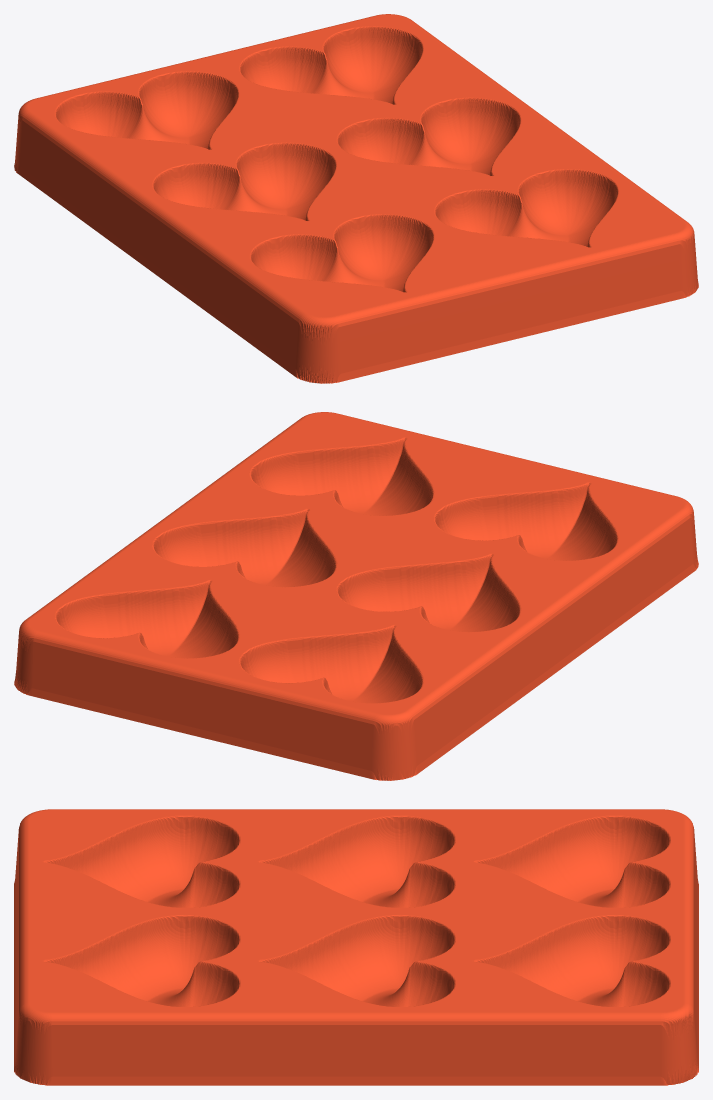
File: mold.glb
3 views of the same model, one above another, from view 1: azimuth 30°, elevation 25°; view 2: azimuth 150°, elevation 25°; view 3: azimuth 270°, elevation 25° (orthographic). The views are drawn at different scales.
Parts seen in each view (by area): view 1: geometry_0; view 2: geometry_0; view 3: geometry_0.
Part boxes in pixels (box(x1,y1,x2,y2)): geometry_0: box(14, 14, 698, 383); geometry_0: box(14, 412, 698, 780); geometry_0: box(14, 809, 698, 1085).
Bounding box in the file's own units: 0.1211 × 0.0175 × 0.163.
